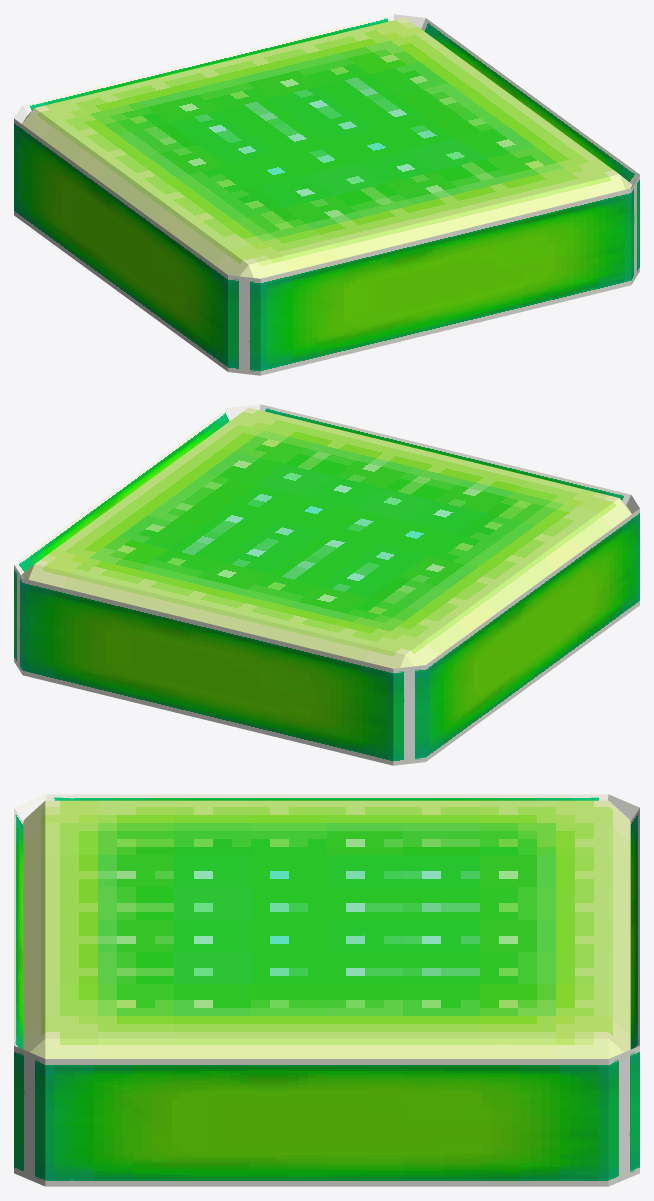
Rendered from greenblock.obj.
The picture shows the model from 3 angles, top to bottom: view 1: azimuth 30°, elevation 25°; view 2: azimuth 150°, elevation 25°; view 3: azimuth 270°, elevation 25°; orthographic projection. The views are drawn at different scales.
Visible parts, largest first — view 1: obj2, obj1; view 2: obj2, obj1; view 3: obj2, obj1.
Part boxes in pixels (<box>): obj2: <box>22,17,632,278</box>; obj1: <box>14,14,639,375</box>; obj2: <box>21,407,631,668</box>; obj1: <box>14,404,639,765</box>; obj2: <box>23,800,630,1058</box>; obj1: <box>14,794,639,1186</box>.
Size of the model in its own units: 20 by 5 by 20.
